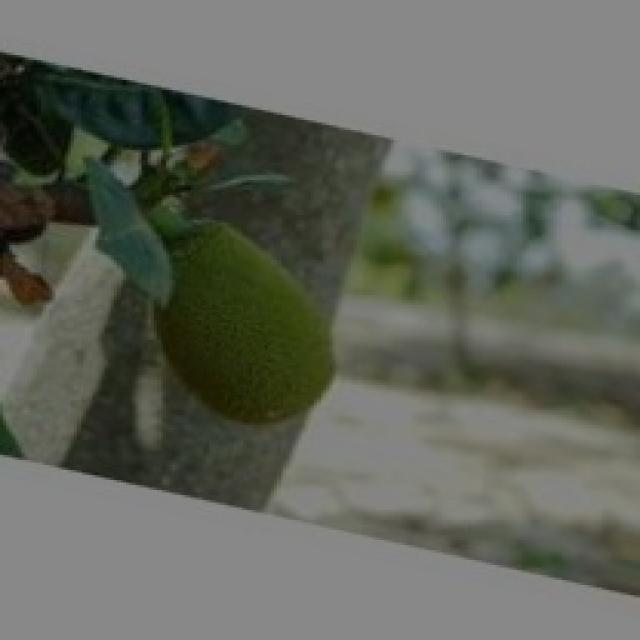Fruit: (105, 183, 372, 455)
